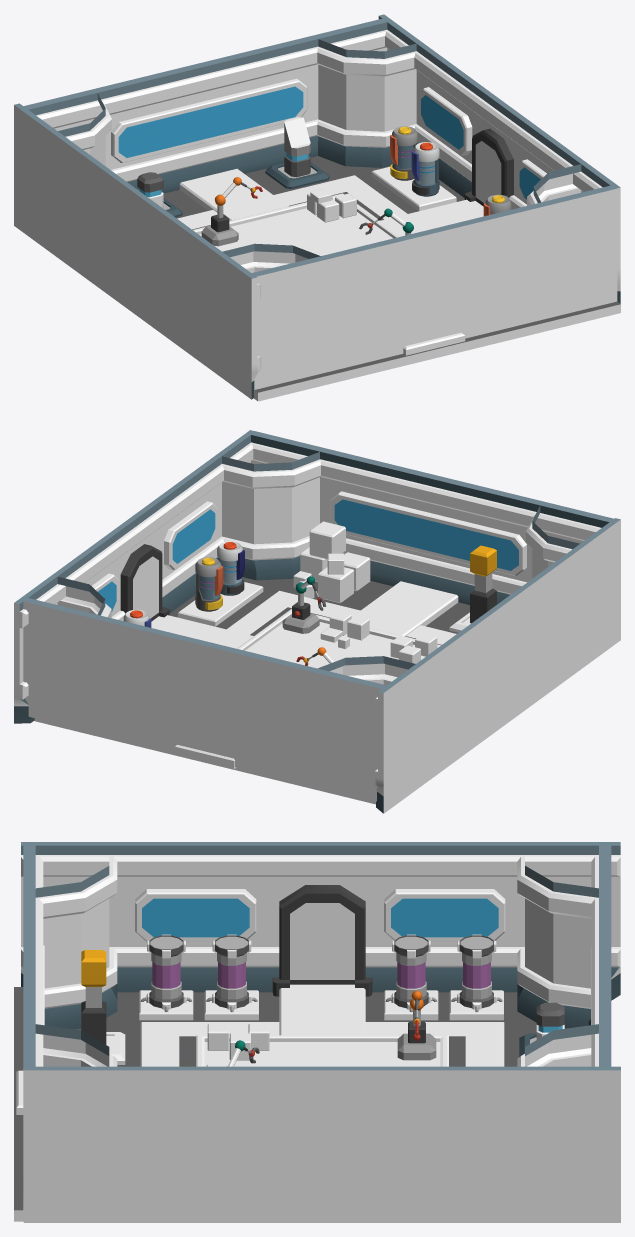
File: Map-SpaceShip.fbx
3 views of the same model, one above another, from view 1: azimuth 30°, elevation 25°; view 2: azimuth 150°, elevation 25°; view 3: azimuth 270°, elevation 25° (orthographic). The views are drawn at different scales.
Parts seen in each view (by area): view 1: tuong1, tuong2, tuong3, goc_tuong3, tuong, cua_so5, sanh_trung_tam, nen, duong_di1, cua, bag_dieu_khien, cua_so (+9 smaller); view 2: tuong3, tuong2, tuong1, tuong, goc_tuong, cua_so4, sanh_trung_tam, duong_di1, nen, cua, cua_so1, cot (+13 smaller); view 3: tuong, tuong2, sanh_trung_tam, goc_tuong2, goc_tuong1, cua1, nen, cua_so3, cua_so2, tuong1, duong_di, tuong3 (+14 smaller).
Part boxes in pixels (bbox=[...]): tuong1: bbox=[251, 185, 617, 389]; tuong2: bbox=[14, 103, 261, 399]; tuong3: bbox=[23, 18, 387, 193]; goc_tuong3: bbox=[315, 39, 417, 167]; tuong: bbox=[378, 14, 620, 303]; cua_so5: bbox=[111, 78, 307, 162]; sanh_trung_tam: bbox=[177, 175, 407, 255]; nen: bbox=[163, 156, 620, 401]; duong_di1: bbox=[179, 168, 465, 355]; cua: bbox=[464, 128, 513, 206]; bag_dieu_khien: bbox=[265, 117, 329, 188]; cua_so: bbox=[419, 87, 472, 155]; tuong3: bbox=[23, 598, 386, 801]; tuong2: bbox=[374, 518, 620, 813]; tuong1: bbox=[250, 431, 613, 604]; tuong: bbox=[14, 430, 255, 723]; goc_tuong: bbox=[220, 452, 321, 580]; cua_so4: bbox=[330, 491, 526, 575]; sanh_trung_tam: bbox=[227, 590, 456, 668]; duong_di1: bbox=[175, 581, 458, 769]; nen: bbox=[34, 577, 469, 804]; cua: bbox=[120, 544, 169, 621]; cua_so1: bbox=[164, 501, 217, 569]; cot: bbox=[449, 545, 496, 632]; tuong: bbox=[23, 1066, 620, 1222]; tuong2: bbox=[21, 842, 620, 1000]; sanh_trung_tam: bbox=[140, 1022, 504, 1066]; goc_tuong2: bbox=[517, 855, 598, 1028]; goc_tuong1: bbox=[35, 855, 117, 1029]; cua1: bbox=[272, 885, 372, 996]; nen: bbox=[14, 987, 536, 1221]; cua_so3: bbox=[135, 889, 256, 941]; cua_so2: bbox=[384, 889, 505, 941]; tuong1: bbox=[23, 844, 46, 1209]; duong_di: bbox=[279, 984, 365, 1035]; tuong3: bbox=[588, 845, 611, 1066].
Size of the model in its own units: 69.58 by 21.86 by 78.27.
